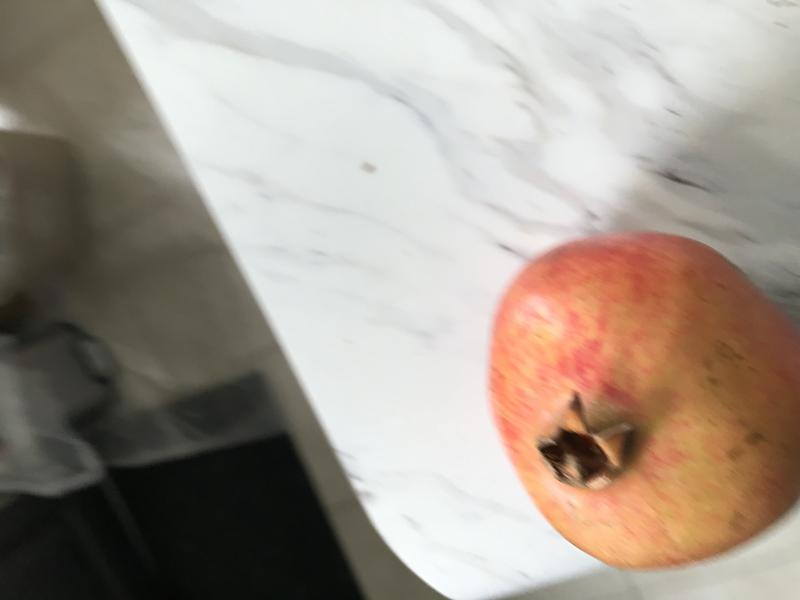pomegranate: (476, 211, 800, 585)
